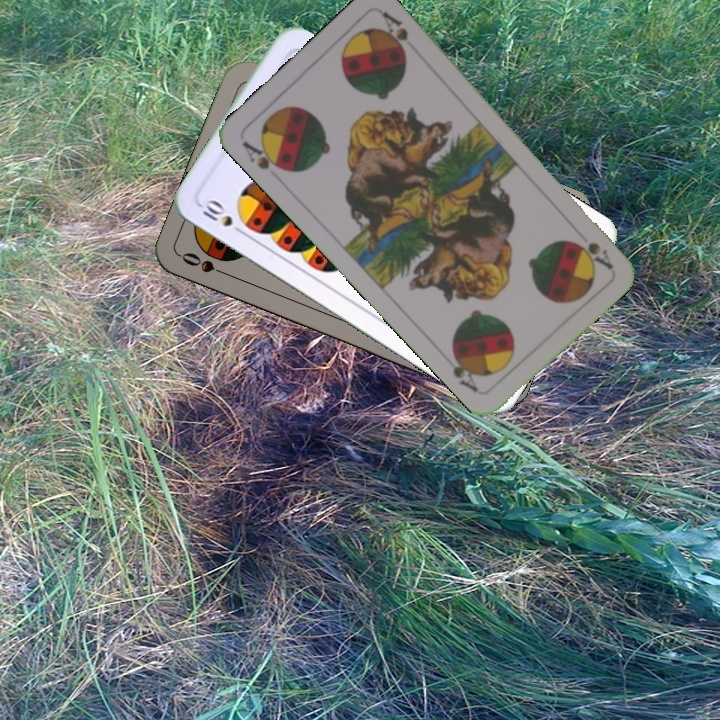S10: (198, 195, 248, 238)
SA: (237, 137, 291, 175), (583, 238, 616, 272)
SO: (177, 248, 234, 280)
